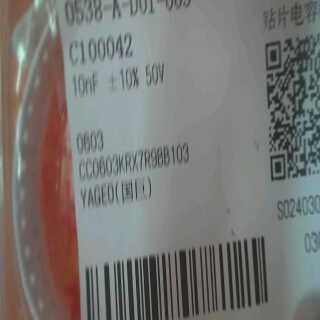10nF: (69, 71, 105, 98)
